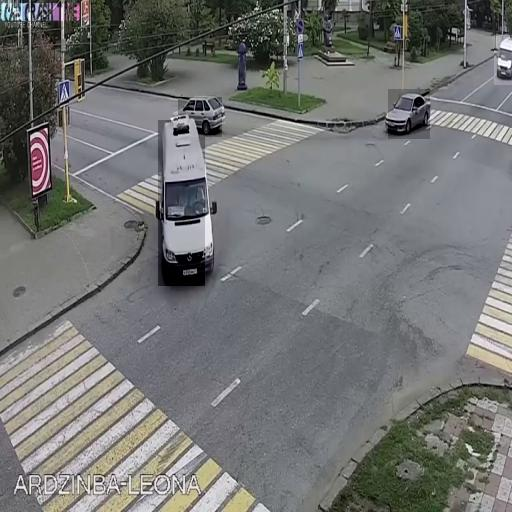小汽车: (158, 120, 205, 286), (388, 89, 430, 139), (178, 98, 222, 138), (494, 36, 512, 86)
